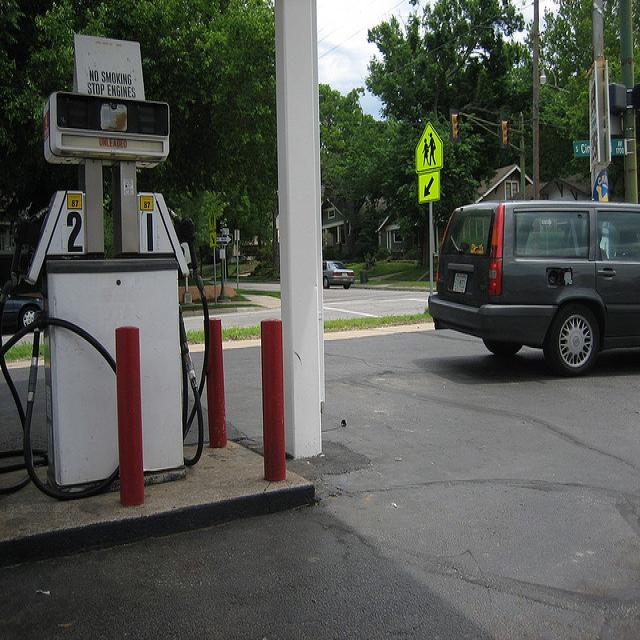Vehicle: (428, 201, 640, 375), (1, 283, 44, 328), (324, 262, 354, 288)
